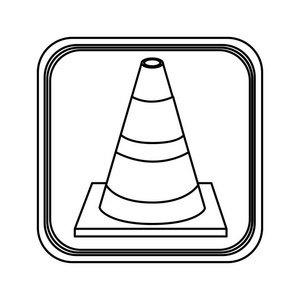cone_barrel: (88, 60, 209, 223)
